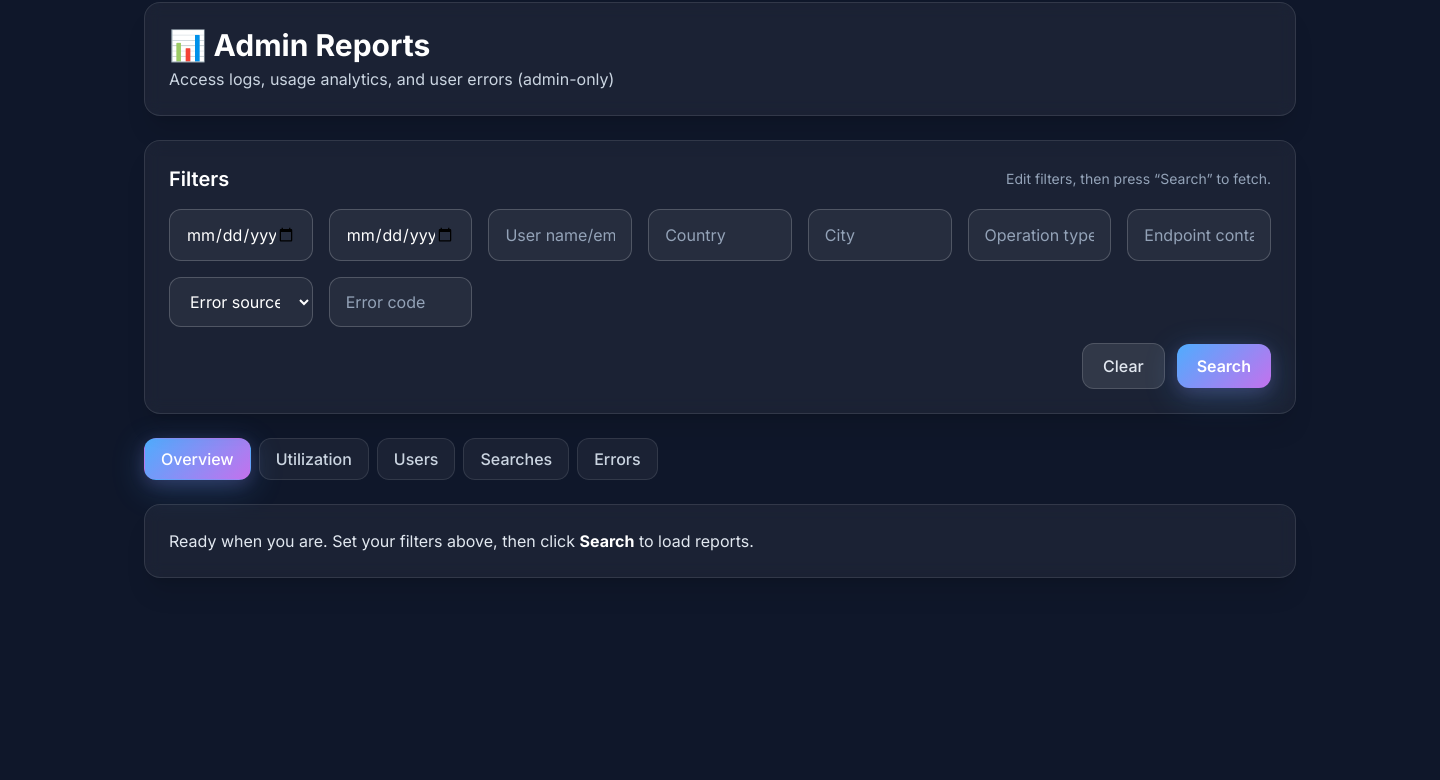
it: AdminReports › Errors tab shows curated solution when an event is selected
The image size is (1440, 780).
What coordinates should you click on to do the following:
click the button "Search"
I would click on:
 (1224, 366)
Its box is [1177,344,1271,388].
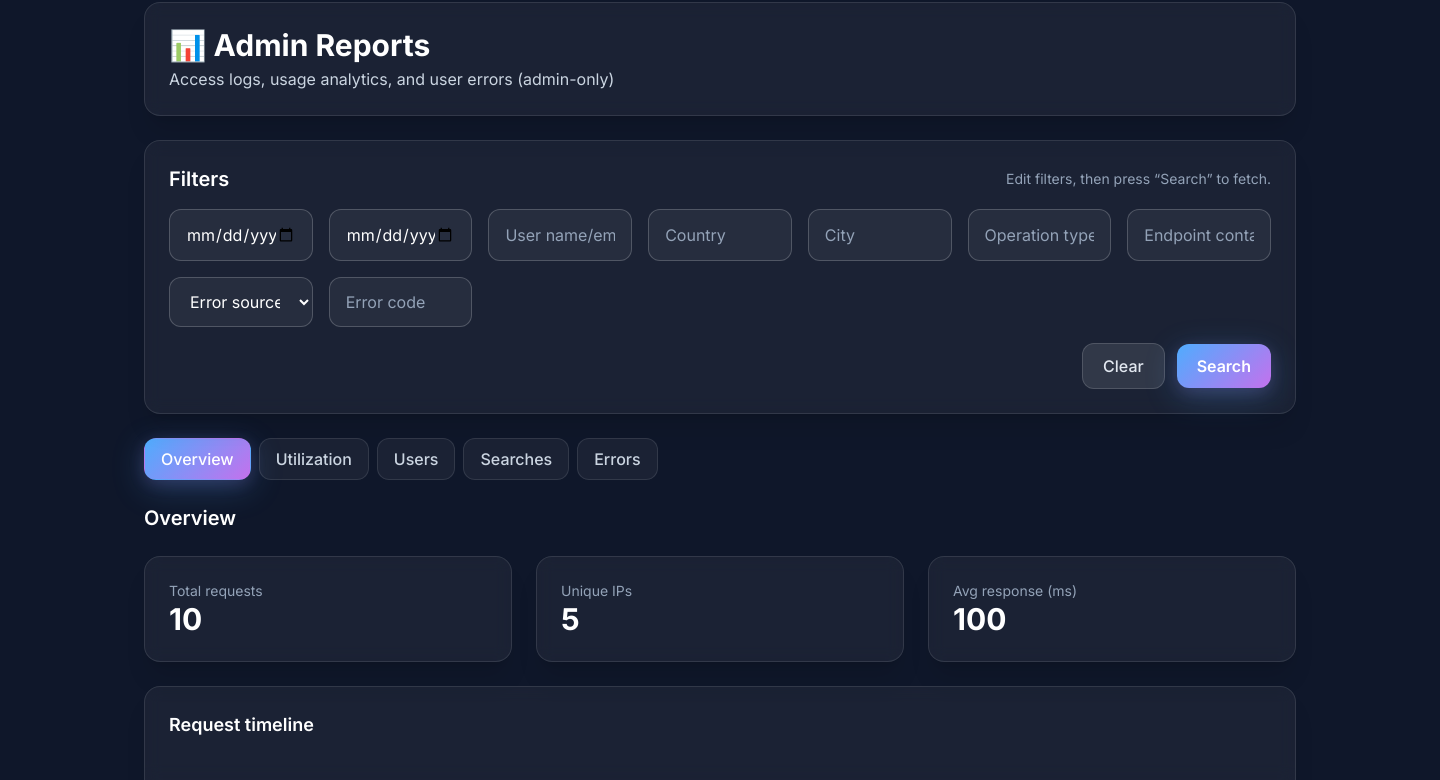
Result: the heading "Overview" is shown at [144,506,236,530]
What coordinates should you click on to do the following:
click the tab "Errors"
I would click on:
 (617, 459)
Its box is [577,438,658,480].
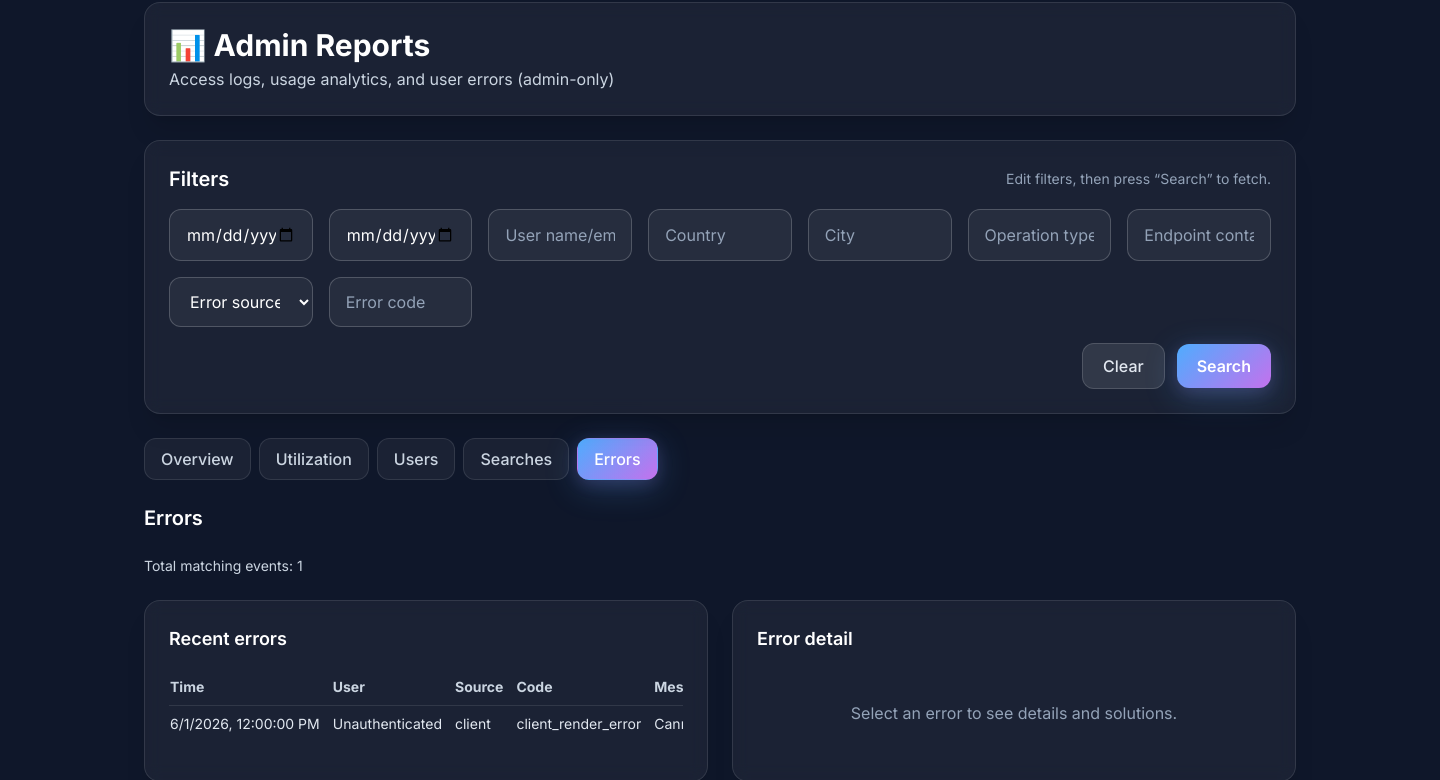
What coordinates should you click on to do the following:
click the text "client_render_error"
I would click on:
 (584, 724)
Its box is [515,706,653,742].
(page scrolled)
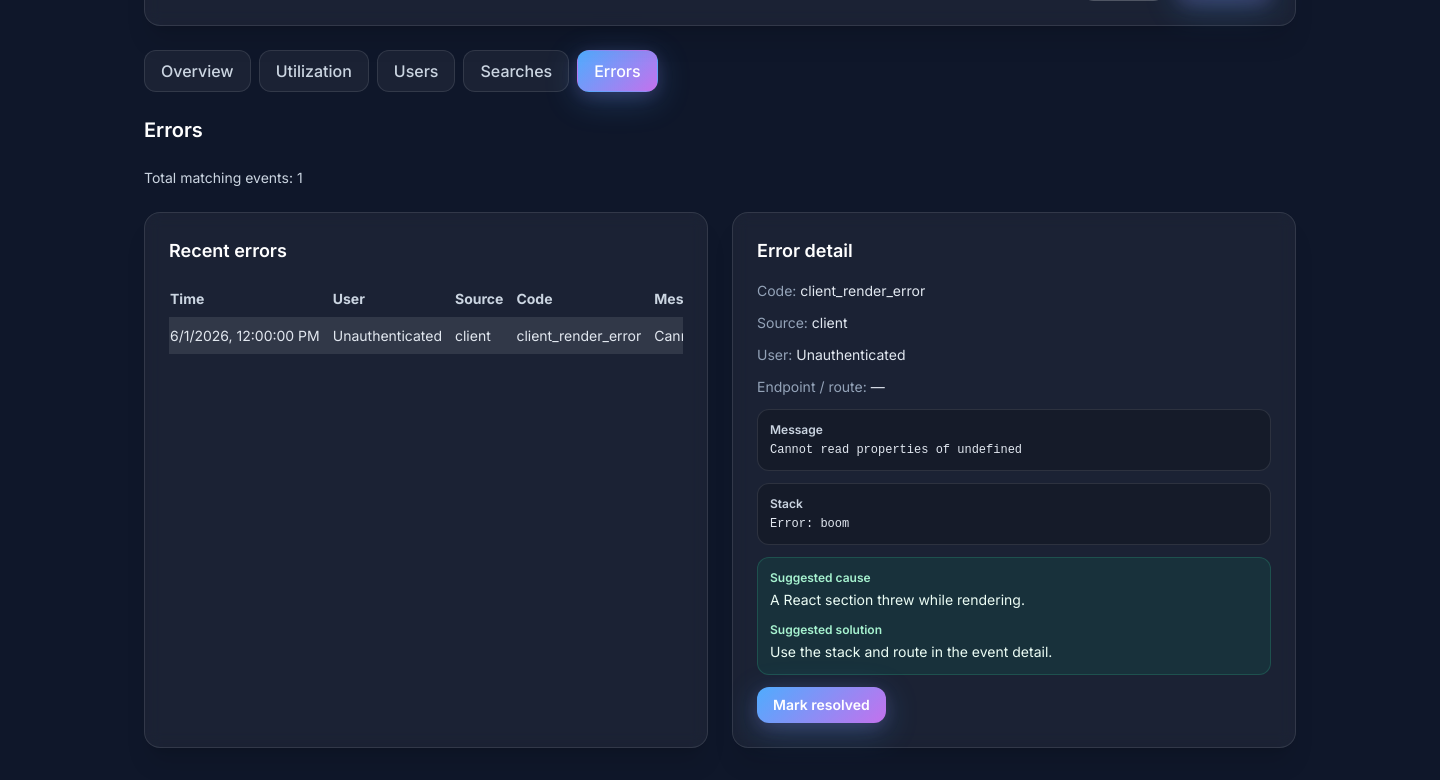
Result: the element with test id "error-detail-panel" is shown at [757,281,1271,723]
Result: the text "Suggested cause" is shown at [770,570,871,585]
Result: the text "A React section threw while rendering." is shown at [770,591,1025,608]
